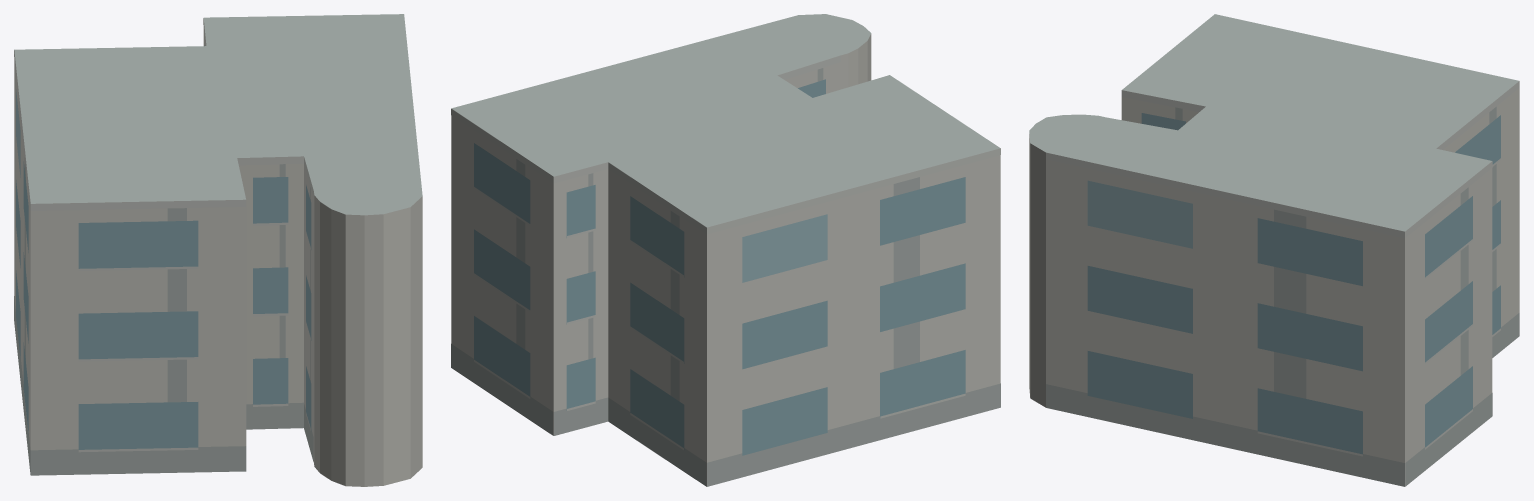
Rendered from survey-upis-32933765.glb.
3 views of the same model, side by side, from view 1: azimuth 30°, elevation 25°; view 2: azimuth 150°, elevation 25°; view 3: azimuth 270°, elevation 25° (orthographic). The views are drawn at different scales.
Parts seen in each view (by area): view 1: survey-upis-32933765.tmp; view 2: survey-upis-32933765.tmp; view 3: survey-upis-32933765.tmp.
Boxes of the visible parts, box(x1,y1,x2,y2) form: survey-upis-32933765.tmp: box(14, 14, 422, 486); survey-upis-32933765.tmp: box(451, 14, 1000, 486); survey-upis-32933765.tmp: box(1029, 14, 1519, 486).
Size of the model in its own units: 16.74 by 9.15 by 15.94.
